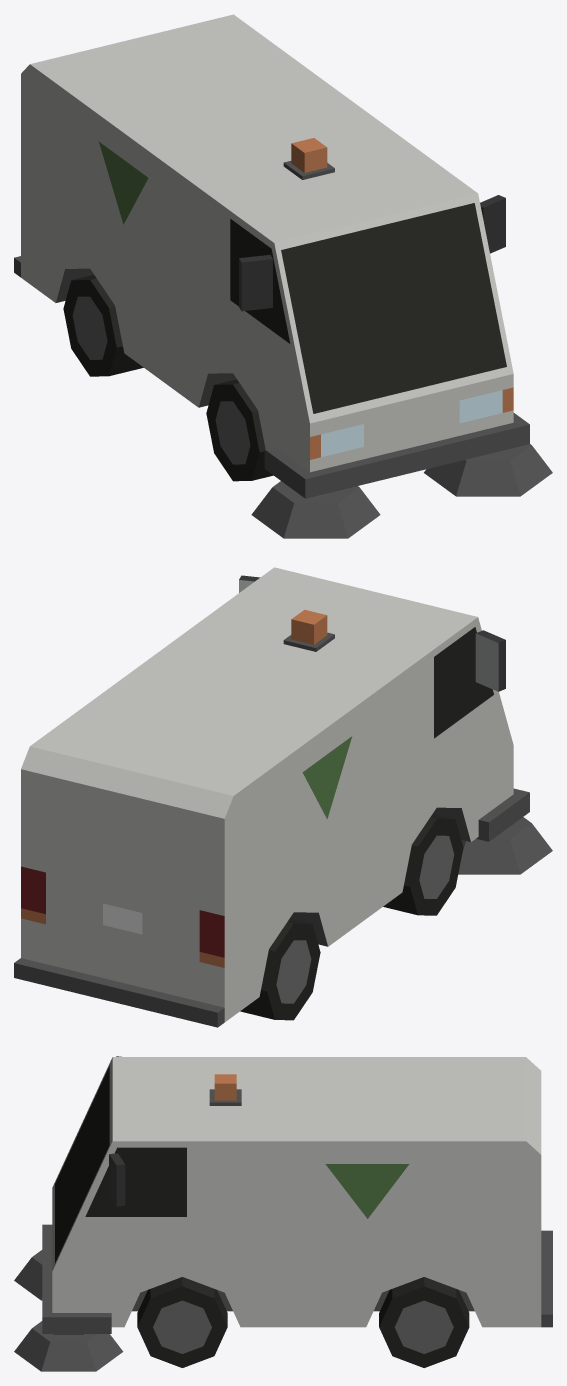
The model's file is Veh_Sweeper.glb.
3 views of the same model, one above another, from view 1: azimuth 30°, elevation 25°; view 2: azimuth 150°, elevation 25°; view 3: azimuth 270°, elevation 25° (orthographic). The views are drawn at different scales.
Visible parts, largest first — view 1: Sweeper, Wheel_RR, Wheel_FR; view 2: Sweeper, Wheel_FR, Wheel_RR; view 3: Sweeper, Wheel_RL, Wheel_FL.
Part boxes in pixels (left/top/right/bottom): Sweeper: left=14, top=14, right=552, bottom=538; Wheel_RR: left=63, top=275, right=143, bottom=376; Wheel_FR: left=206, top=379, right=273, bottom=481; Sweeper: left=14, top=567, right=552, bottom=1027; Wheel_FR: left=383, top=814, right=463, bottom=915; Wheel_RR: left=240, top=918, right=320, bottom=1020; Sweeper: left=14, top=1056, right=552, bottom=1371; Wheel_RL: left=379, top=1277, right=469, bottom=1367; Wheel_FL: left=137, top=1277, right=227, bottom=1367.
Bounding box in the file's own units: 1.17 × 1.21 × 2.4.
Materials: 1 (1 with a texture image).
